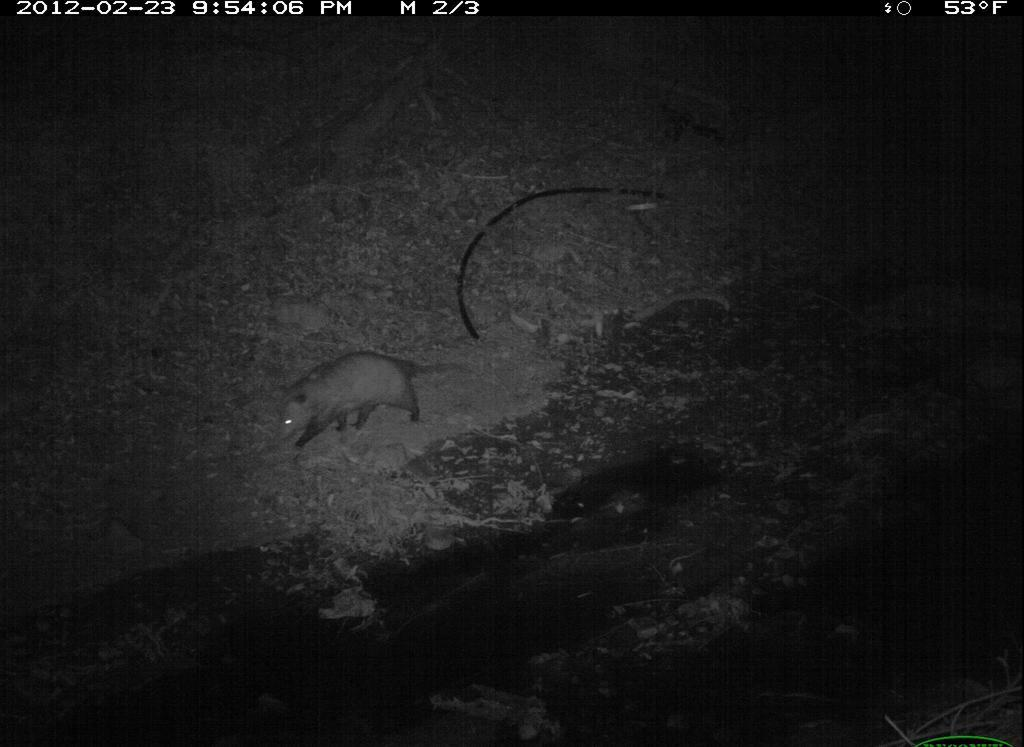opossum: (280, 351, 470, 460)
